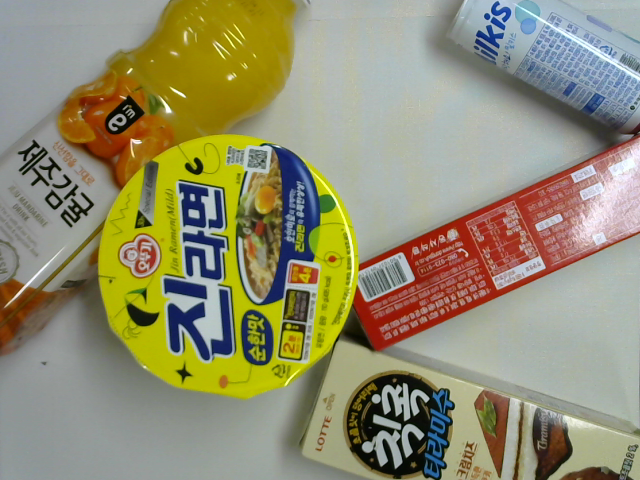Chicchok_Tiramisu: (302, 332, 638, 480)
Jeju_Tangerine_1.5L: (1, 1, 316, 357)
Jinlamyeon_Mild_Taste_Large_Cup: (93, 129, 360, 404)
Milkies_250ml: (447, 1, 640, 137)
Ritz_Cracker: (349, 135, 640, 359)
